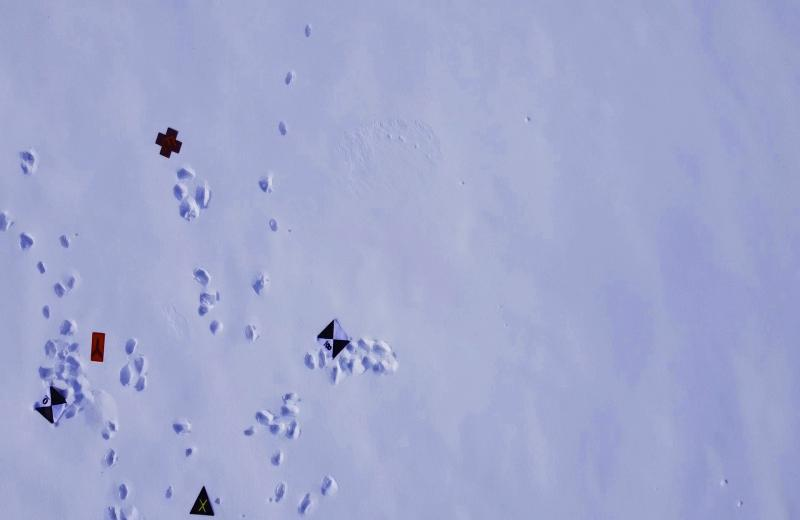Cross: (154, 120, 187, 160)
Rectangle: (84, 326, 108, 366)
Triangle: (183, 478, 218, 520)
